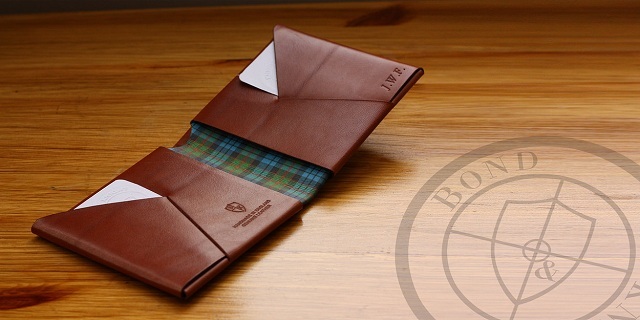monedero: (28, 23, 426, 305)
